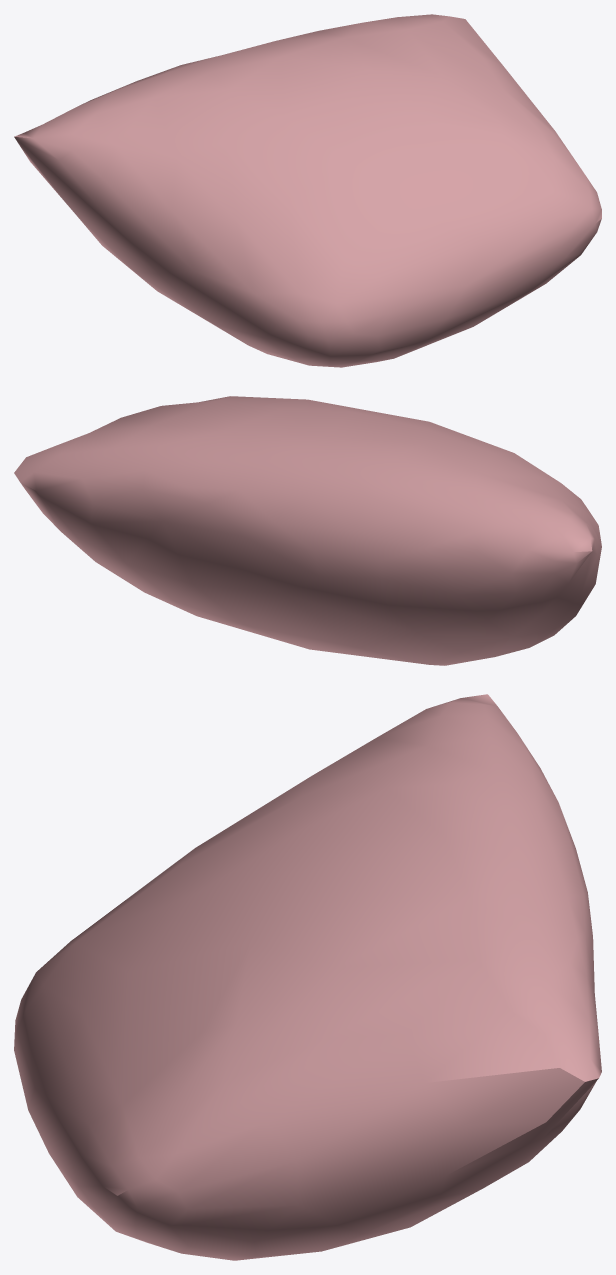
File: fma74883-r_mm2998m.glb
3 renders of one model, top to bottom at view 1: azimuth 30°, elevation 25°; view 2: azimuth 150°, elevation 25°; view 3: azimuth 270°, elevation 25°, orthographic. The views are drawn at different scales.
Parts seen in each view (by area): view 1: FMA74883-R_MM2998M; view 2: FMA74883-R_MM2998M; view 3: FMA74883-R_MM2998M.
Boxes of the visible parts, x1,y1,x2,y2 form: FMA74883-R_MM2998M: [14, 14, 601, 367]; FMA74883-R_MM2998M: [14, 396, 601, 665]; FMA74883-R_MM2998M: [14, 694, 601, 1260].
Size of the model in its own units: 0.00613 by 0.00276 by 0.00429.
